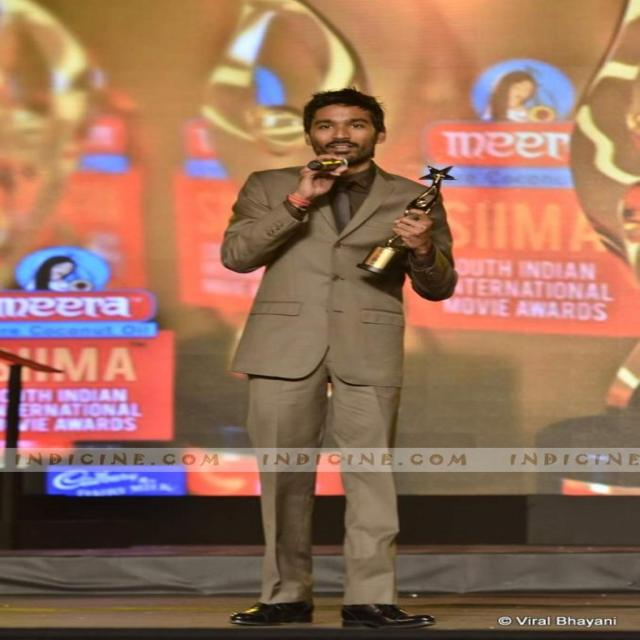Face: (314, 104, 395, 170)
